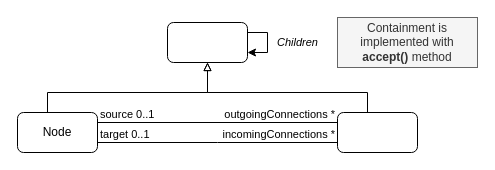
Some shapes in this 495 by 170 pixel diagram are drawn without their labels. Here are the shapes that lost their labels. From the top down, the centre of each, then its label:
At point 207,42: "Element".
At point 377,132: "Connection".
